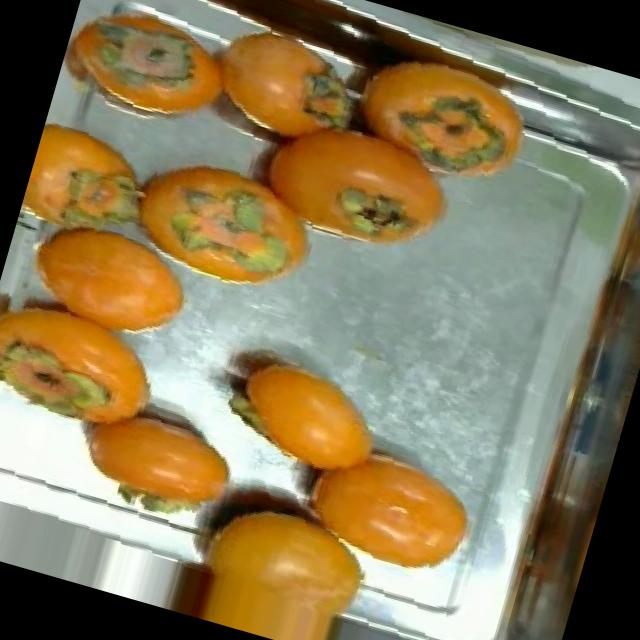Fruit: (46, 366, 273, 538), (200, 325, 414, 503), (162, 479, 395, 640), (0, 204, 221, 364), (306, 424, 500, 596)
